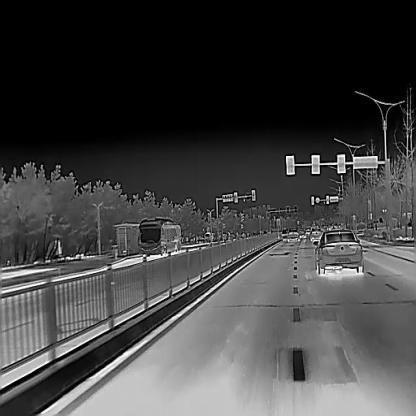bus: (137, 217, 181, 255)
car: (314, 229, 362, 274), (309, 226, 321, 240), (287, 229, 299, 240), (205, 231, 213, 241), (298, 228, 304, 238), (305, 228, 309, 236)
